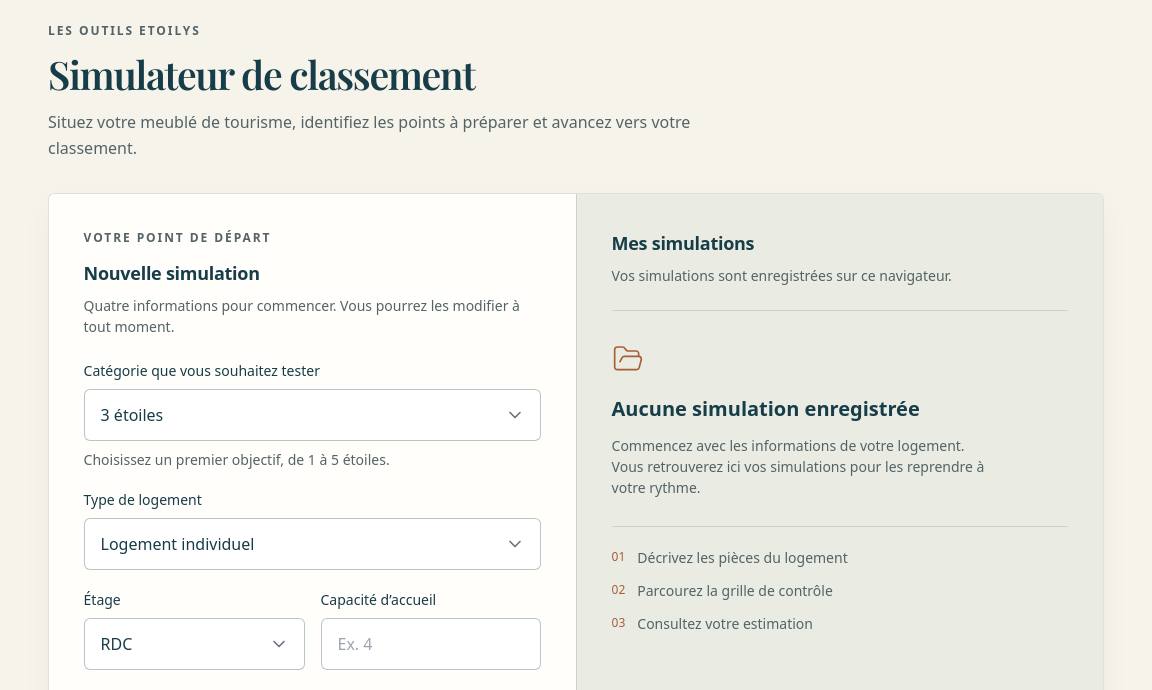
Test: Simulateur public de classement › affiche un message dédié quand Cloudflare limite les tentatives
This screenshot has width=1152, height=690.
Type "4" into the number field labelled "Capacité d’accueil" at point(431, 644), box [320, 618, 542, 670]
(page scrolled)
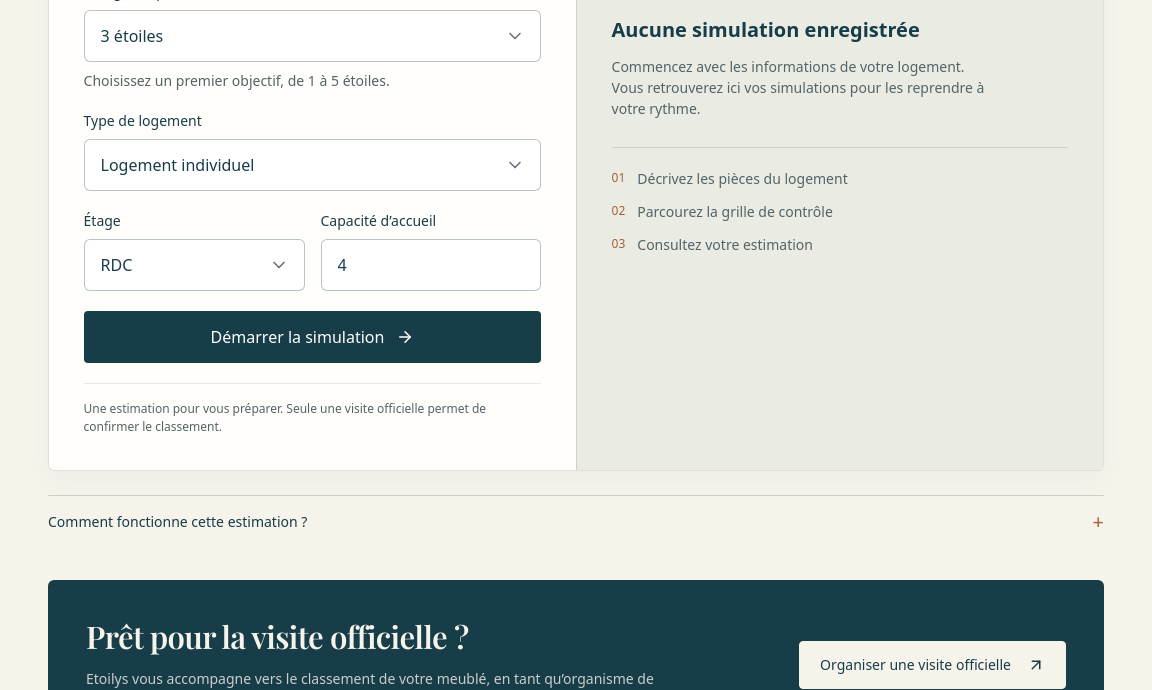
Click the button "Démarrer la simulation" at point(312, 337), box [84, 311, 541, 363]
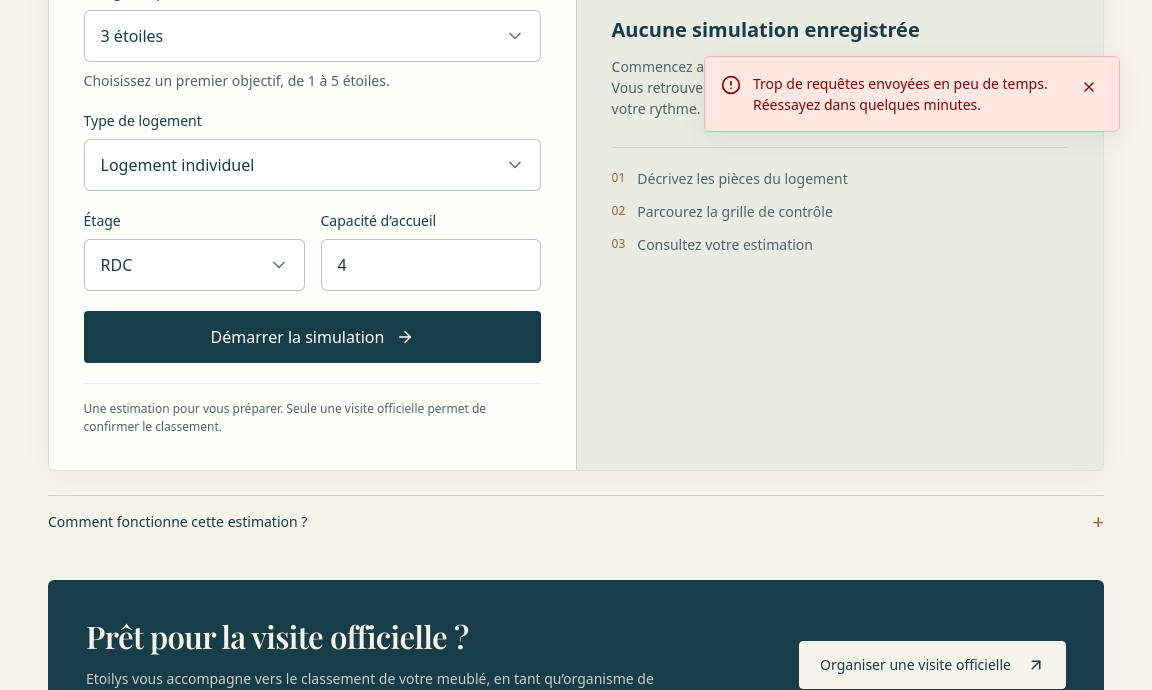
Now the text "Réessayez dans quelques minutes" is shown, box [753, 74, 1048, 114]
